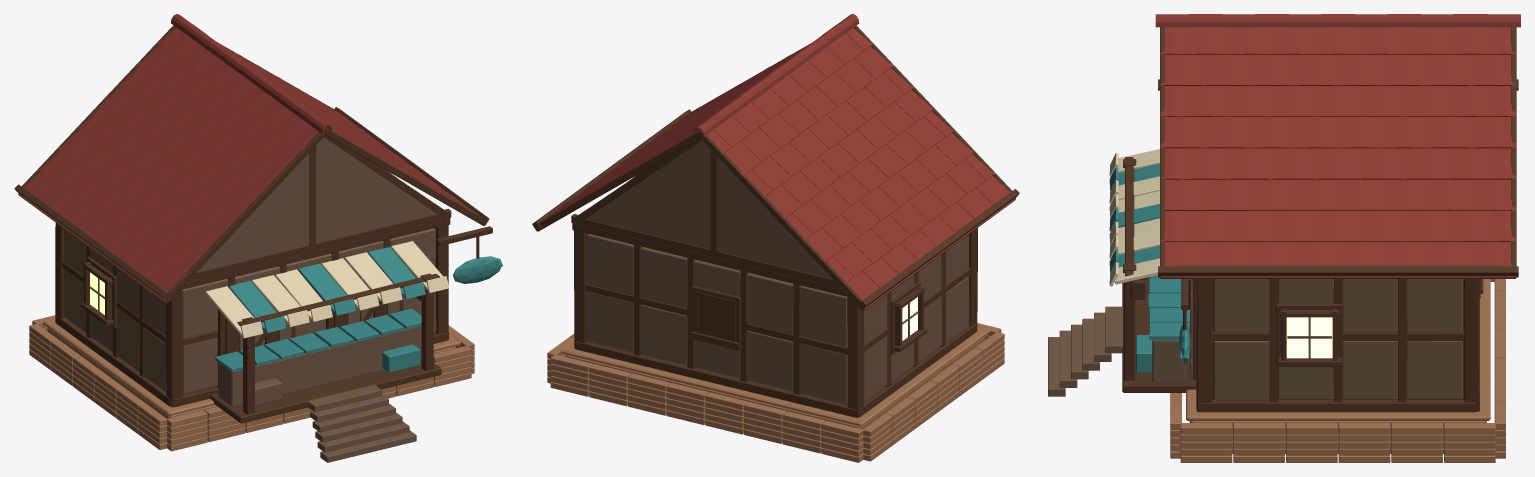
Rendered from building_fish_market_a.glb.
The picture shows the model from 3 angles, left to right: view 1: azimuth 30°, elevation 25°; view 2: azimuth 150°, elevation 25°; view 3: azimuth 270°, elevation 25°; orthographic projection. The views are drawn at different scales.
Visible parts, largest first — view 1: building_fish_market_a_LOD0; view 2: building_fish_market_a_LOD0; view 3: building_fish_market_a_LOD0.
Boxes of the visible parts, x1,y1,x2,y2 form: building_fish_market_a_LOD0: (14, 14, 502, 462); building_fish_market_a_LOD0: (532, 14, 1019, 462); building_fish_market_a_LOD0: (1048, 14, 1520, 462).
Size of what is drawn, in the model's own units: 9.36 by 7.56 by 9.09.
